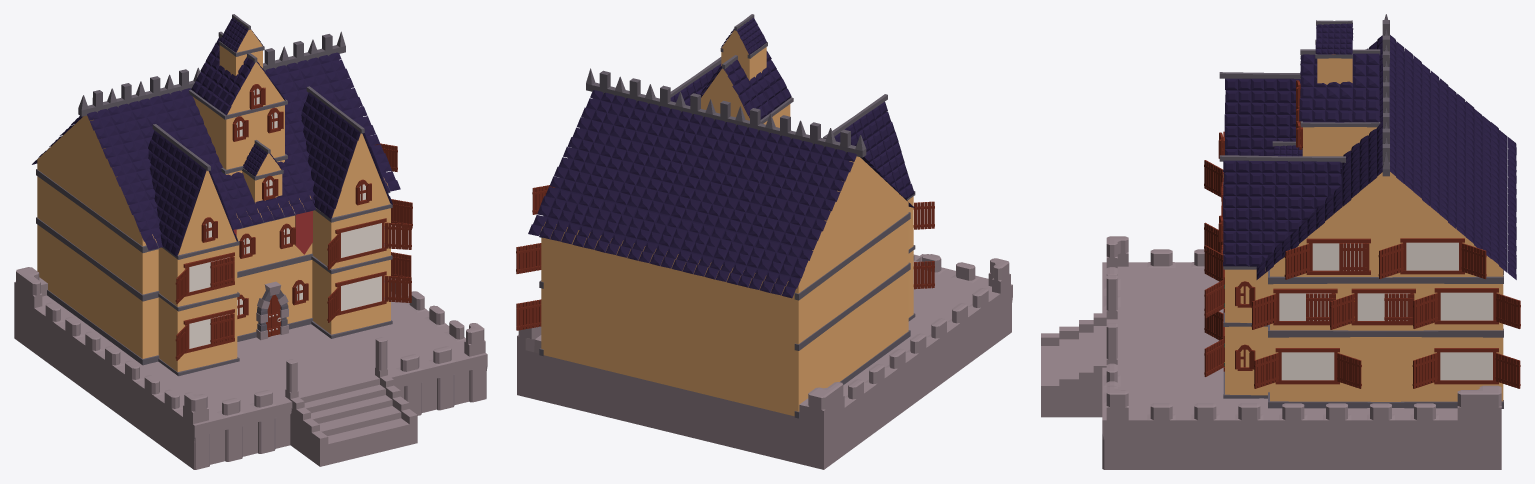
File: House_of_law.fbx
3 renders of one model, left to right at view 1: azimuth 30°, elevation 25°; view 2: azimuth 150°, elevation 25°; view 3: azimuth 270°, elevation 25°, orthographic. The views are drawn at different scales.
Parts seen in each view (by area): view 1: House_of_law; view 2: House_of_law; view 3: House_of_law.
Part boxes in pixels (box(x1,y1,x2,y2)): House_of_law: box(14, 14, 487, 469); House_of_law: box(516, 14, 1012, 469); House_of_law: box(1041, 14, 1520, 469).
Size of the model in its own units: 2471 by 1927 by 2116.
